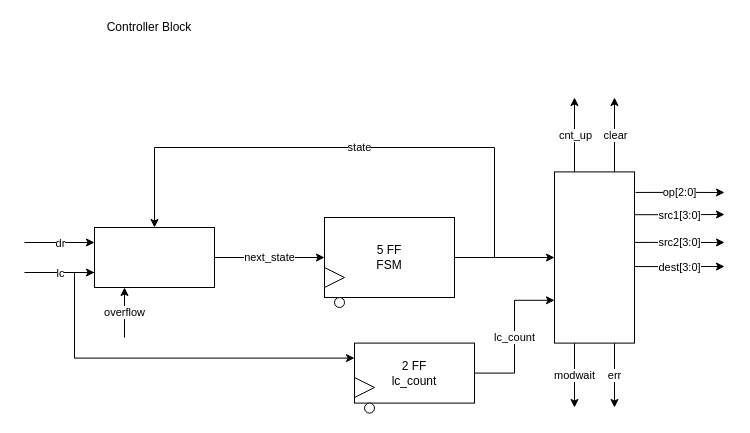
Some shapes in this 750 by 433 pixel diagram are drawn without their labels. The centre of each missing label's shape, as x and y in pixels:
Next_state_logic: the point at 154,257
output_logic: the point at 594,257
